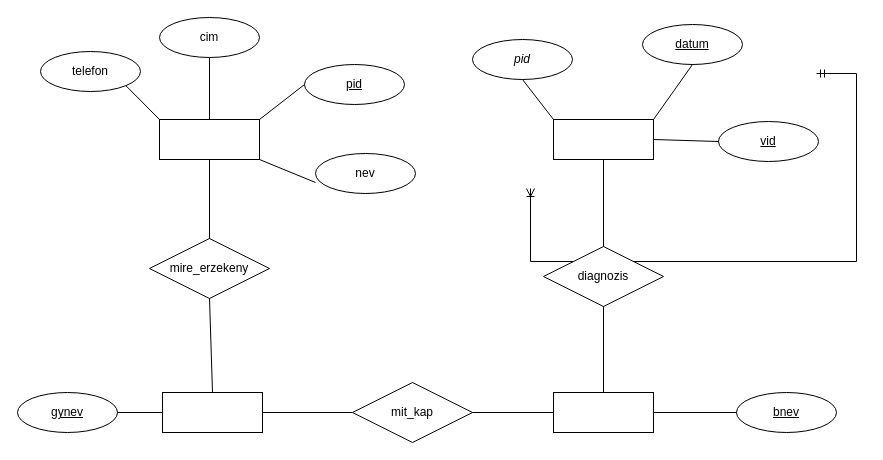
Image size: 883x460. Some labels were removed from this diagram. The centre of each missing label's shape, as x and y in pixels:
betegseg: the point at 603,412
gyogyszer: the point at 212,412
paciensek: the point at 209,139
vizsgalat: the point at 603,139
